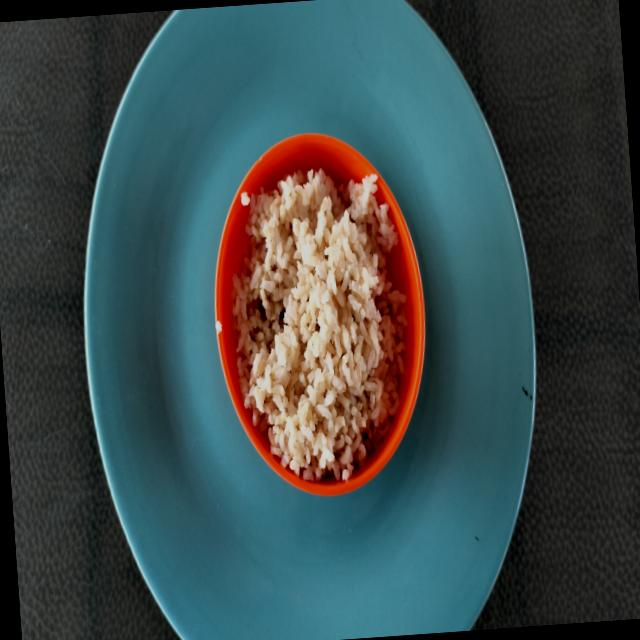brown-rice: (230, 168, 407, 480)
